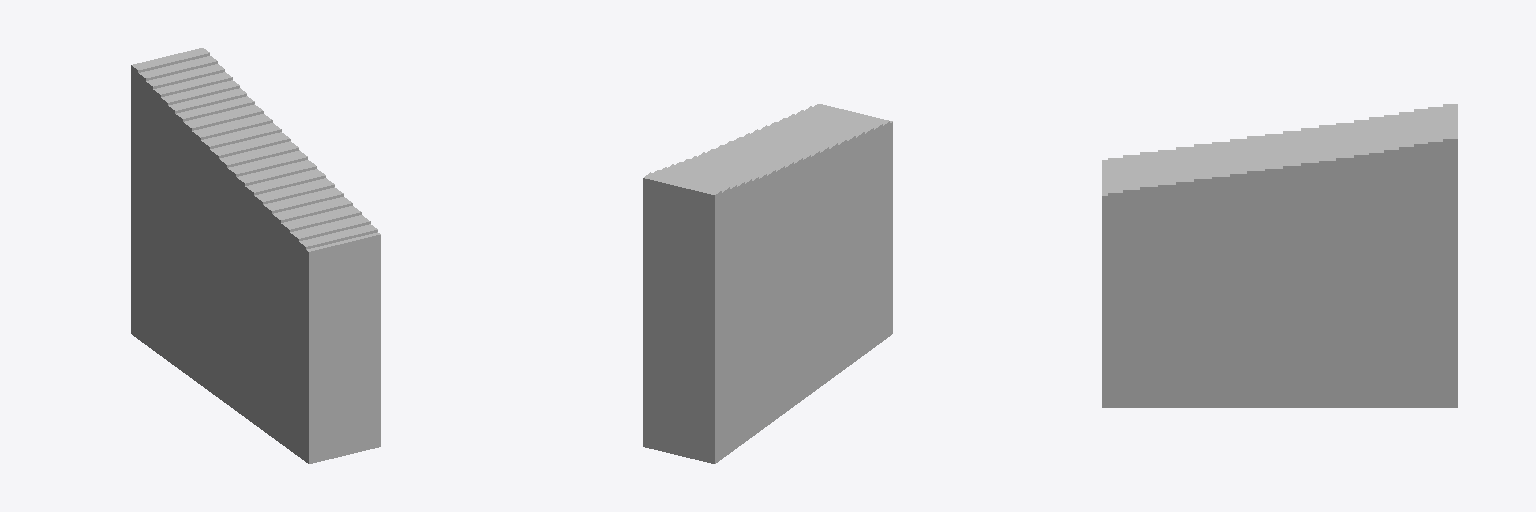
Rendered from Road2.obj.
3 renders of one model, left to right at view 1: azimuth 30°, elevation 25°; view 2: azimuth 150°, elevation 25°; view 3: azimuth 270°, elevation 25°, orthographic.
Visible parts, largest first — view 1: object 1; view 2: object 1; view 3: object 1.
Boxes of the visible parts, x1=… form: object 1: x1=131, y1=48, x2=380, y2=463; object 1: x1=643, y1=104, x2=892, y2=463; object 1: x1=1102, y1=104, x2=1457, y2=407.
Size of the model in its own units: 2.8 by 10 by 12.